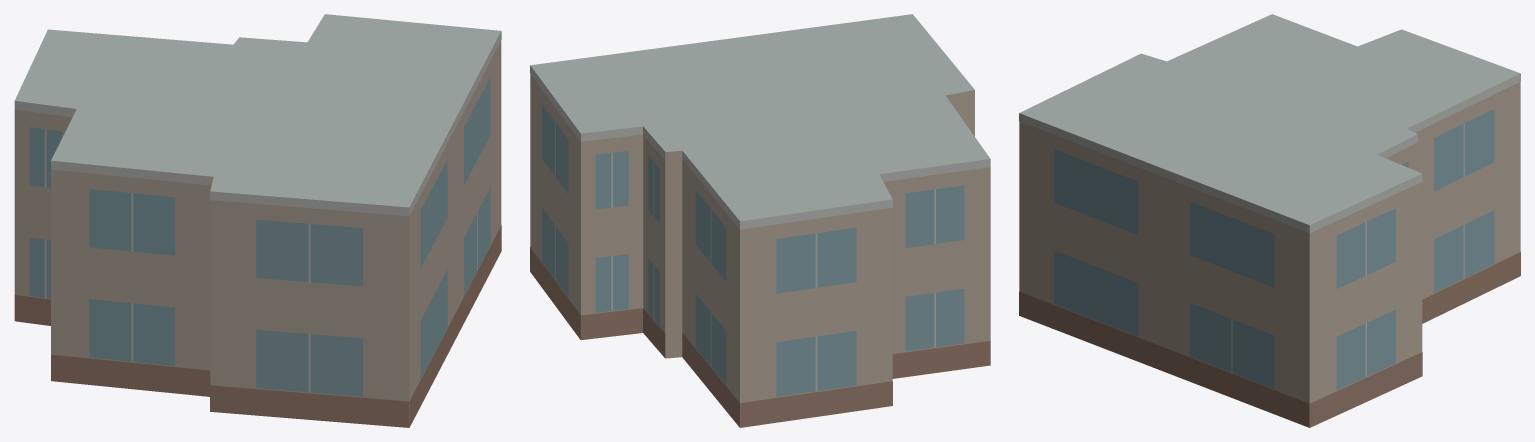
The model's file is survey-upis-32673095.glb.
3 renders of one model, left to right at view 1: azimuth 30°, elevation 25°; view 2: azimuth 150°, elevation 25°; view 3: azimuth 270°, elevation 25°, orthographic. The views are drawn at different scales.
Visible parts, largest first — view 1: survey-upis-32673095.tmp; view 2: survey-upis-32673095.tmp; view 3: survey-upis-32673095.tmp.
Boxes of the visible parts, left/top/right/bottom form: survey-upis-32673095.tmp: left=14, top=14, right=501, bottom=427; survey-upis-32673095.tmp: left=530, top=14, right=990, bottom=427; survey-upis-32673095.tmp: left=1019, top=14, right=1520, bottom=427.
Bounding box in the file's own units: 13.65 × 6.1 × 13.7.
